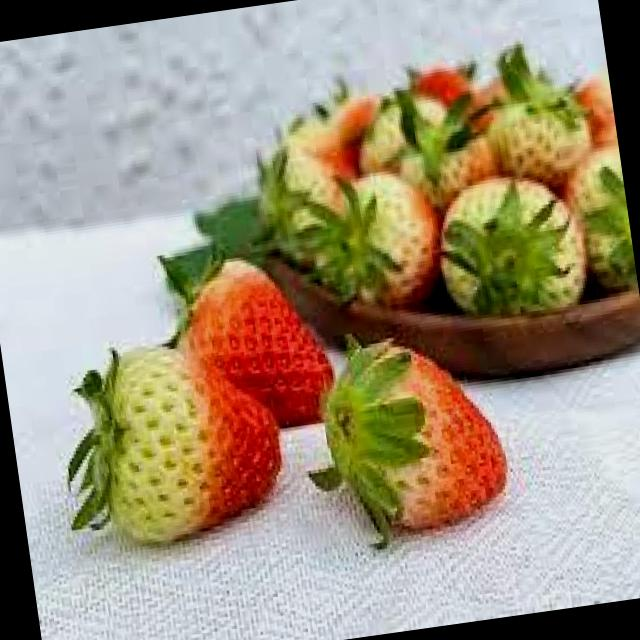Strawberry: (85, 331, 290, 546), (327, 330, 515, 540), (176, 247, 339, 437), (434, 166, 587, 328), (308, 162, 449, 318), (492, 82, 594, 186), (388, 116, 502, 205)
